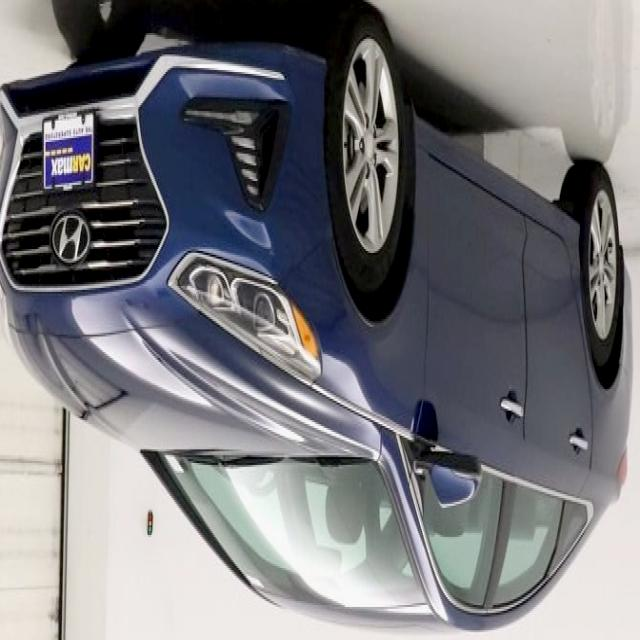blue: (0, 0, 631, 636)
